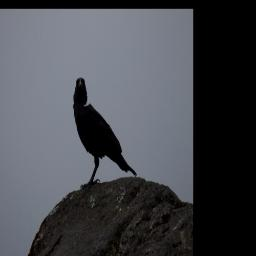Crow: (72, 76, 137, 187)
